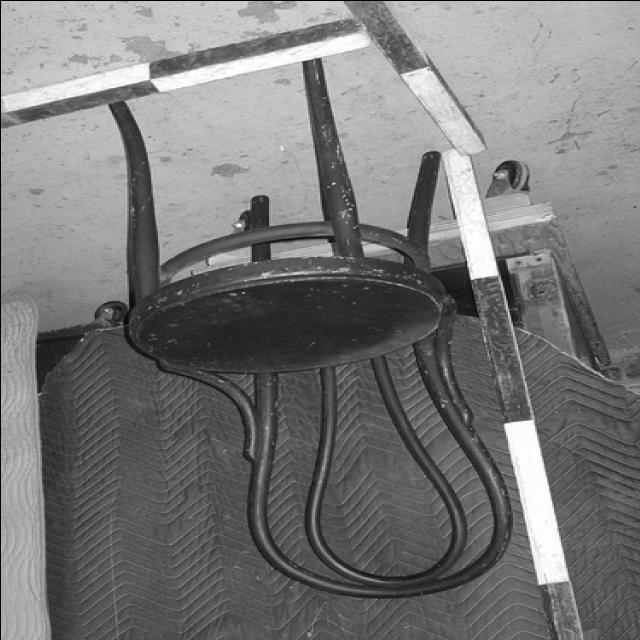chair: (110, 54, 520, 602)
